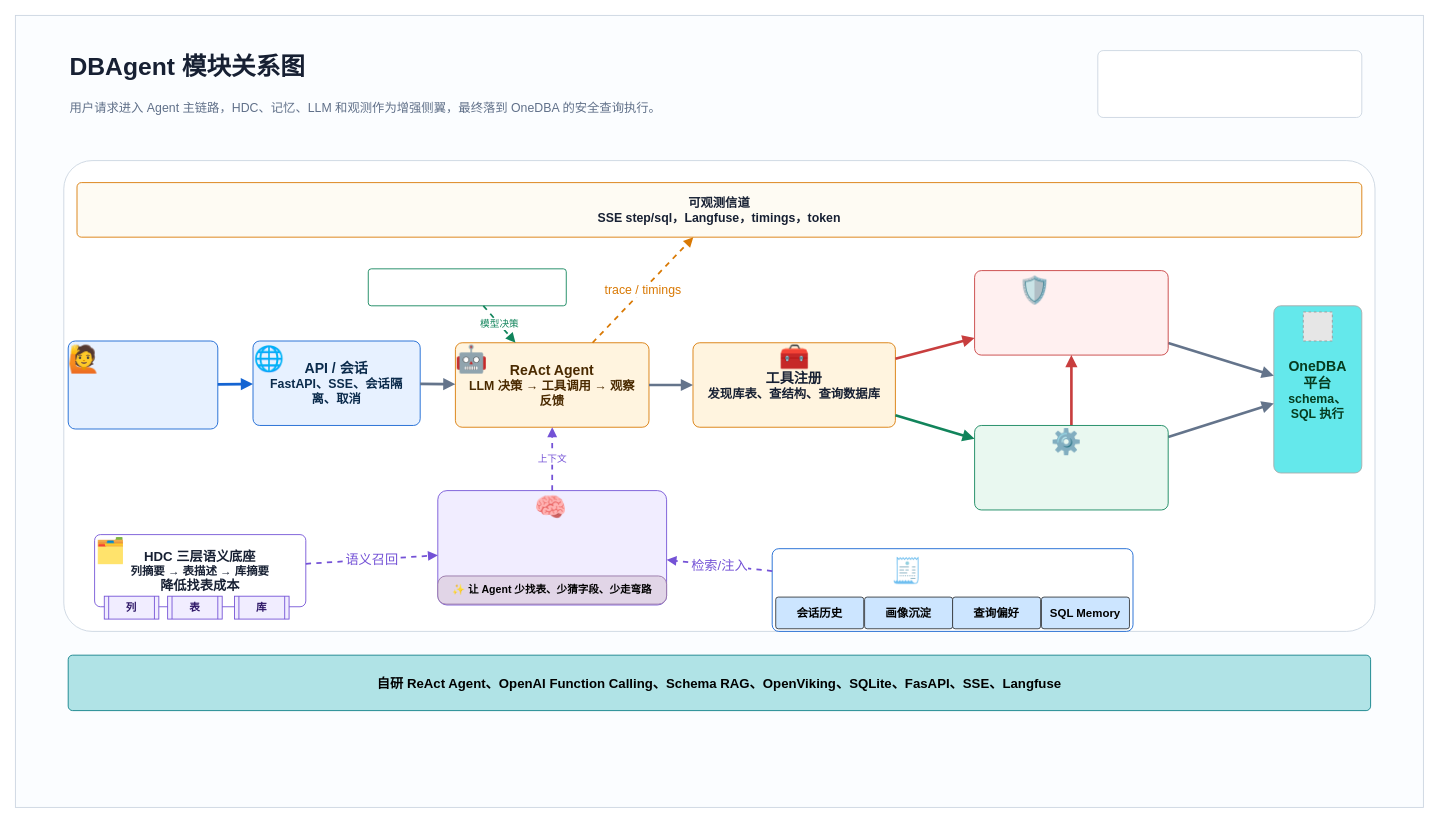
This 1439x823 diagram has some shape labels left out. Grey dashed boxes stand in for pictures. Here are the shapes that lost their labels. From the top down, the box of each, then its label:
(1097, 50, 1362, 117): 一句话定位 OneDBA 上的自然语言查数 Agent
(367, 268, 566, 306): OpenAI 兼容 LLM DeepSeek-V4，模型端点可替换
(974, 270, 1168, 355): 安全 只读放行 写/DDL 拦截 LIMIT 保护
(67, 340, 218, 429): 用户 自然语言查数、追问、探索数据库
(974, 425, 1168, 510): NL2SQL 闭环 生成 → 验证 → 修复
(437, 490, 667, 605): 上下文增强 把可复用知识压缩进本轮 Agent 输入
(771, 548, 1133, 631): 多层记忆
